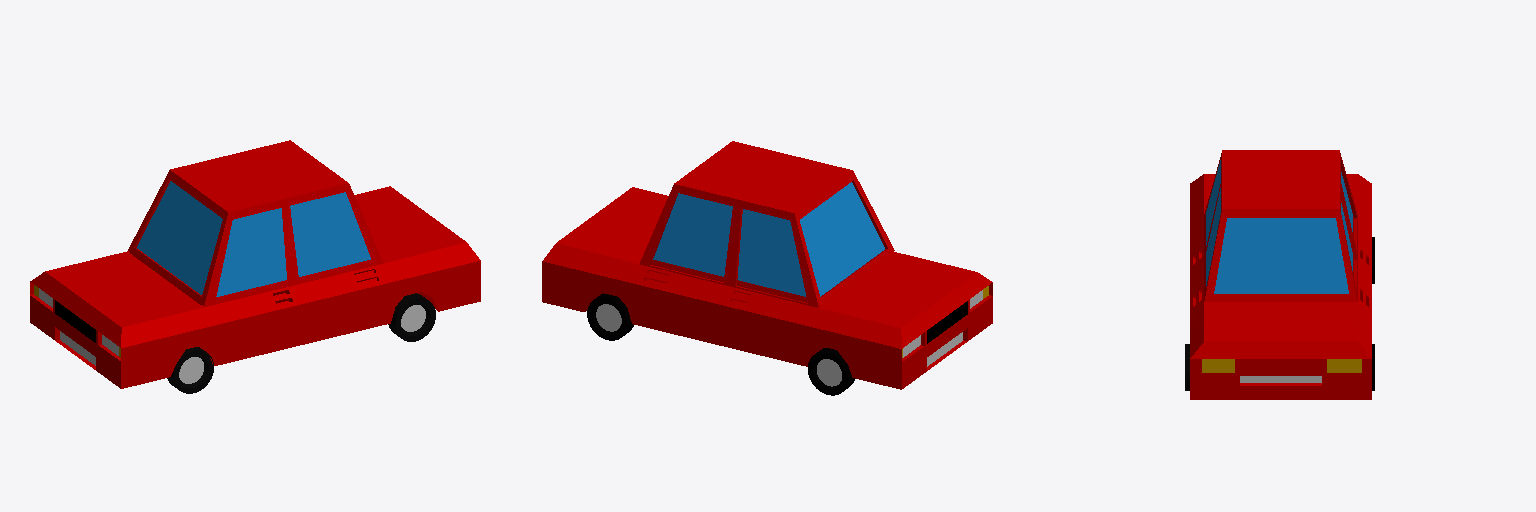
Rendered from new_car.obj.
The picture shows the model from 3 angles: view 1: azimuth 30°, elevation 25°; view 2: azimuth 150°, elevation 25°; view 3: azimuth 270°, elevation 25°; orthographic projection.
Visible parts, largest first — view 1: Cube, Cylinder.002, Cylinder.004; view 2: Cube, Cylinder.000_Cylinder.005, Cylinder.001; view 3: Cube.
Part boxes in pixels (x1,y1,x2,y2): Cube: (30,140,480,388); Cylinder.002: (388,293,435,341); Cylinder.004: (167,347,213,393); Cube: (542,141,992,389); Cylinder.000_Cylinder.005: (587,293,633,340); Cylinder.001: (808,348,854,395); Cube: (1190,150,1371,399).
Size of the model in its own units: 4.56 by 1.9 by 2.08.